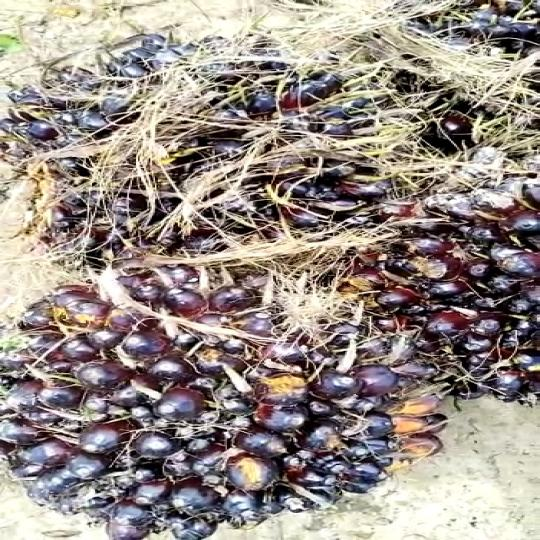mentah: (7, 277, 393, 540), (1, 26, 399, 267)
